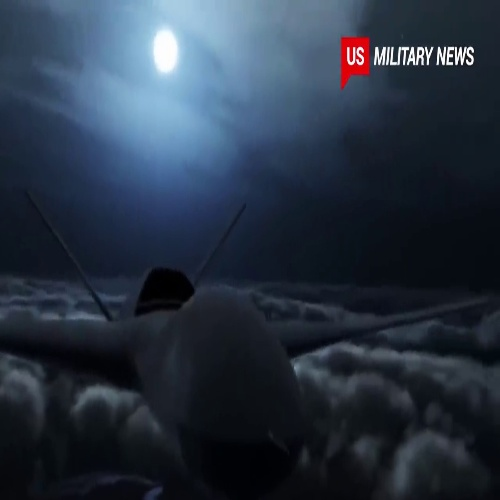uav: (1, 194, 500, 499)
